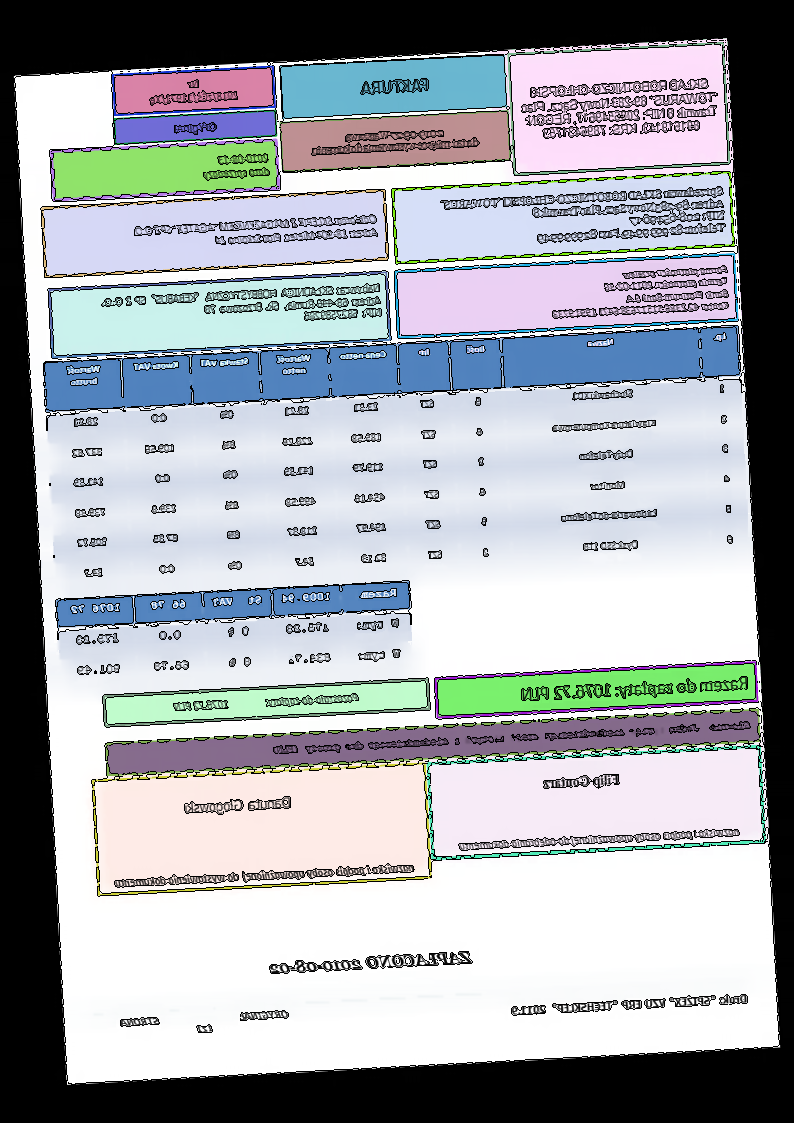Table: (44, 324, 752, 596), (54, 580, 415, 691)
TextBox: (439, 182, 729, 250), (272, 718, 753, 757), (97, 281, 384, 333), (518, 76, 722, 142), (549, 262, 732, 322), (131, 212, 380, 252), (113, 859, 417, 890), (458, 825, 742, 853), (520, 672, 750, 705), (509, 991, 749, 1018), (266, 948, 477, 978), (307, 124, 482, 158), (117, 1008, 291, 1039), (171, 690, 360, 714), (147, 76, 241, 108), (183, 795, 293, 818), (200, 150, 272, 182), (359, 75, 432, 99), (542, 771, 622, 791), (172, 118, 220, 137)
